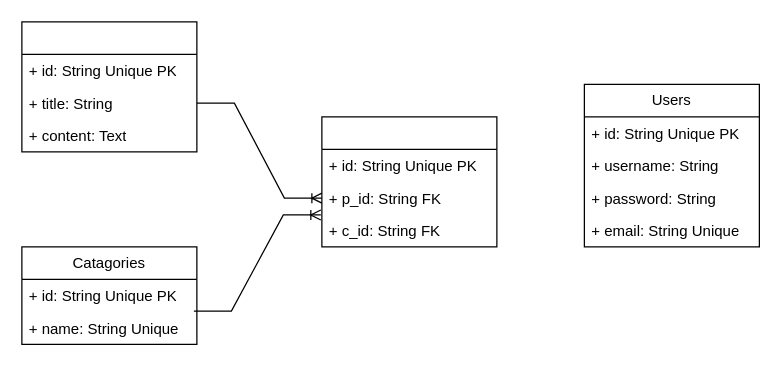
The diagram is 781 pixels wide and 370 high, and some of its shapes have lost their labels. Each missing label, with the box of its shape:
Posts: (21, 21, 197, 152)
Posts_Categories: (321, 116, 497, 247)
